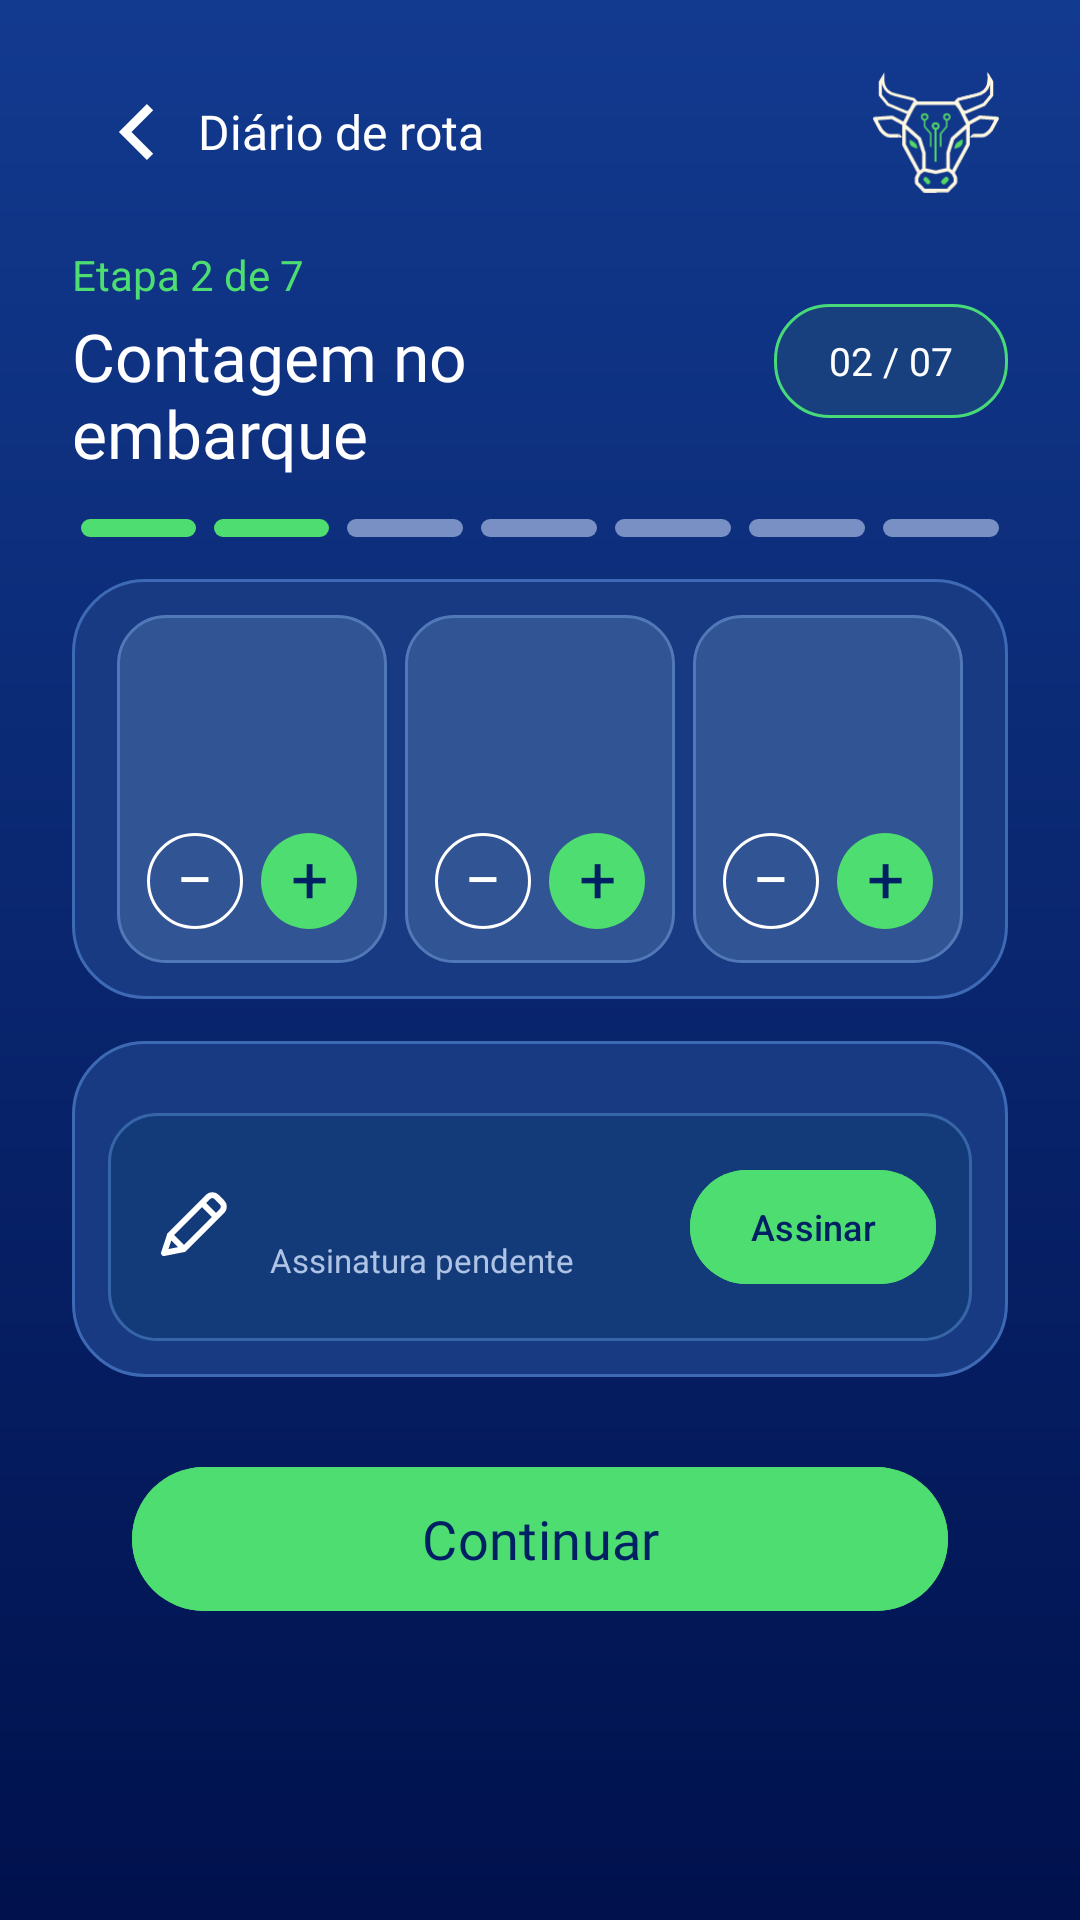

Icon bounding boxes for this 1080*1920 phone screenshot, format (x1, y1, x2, y2):
Desenhar assinatura: (161, 1192, 227, 1256)
Voltar: (119, 104, 153, 160)
